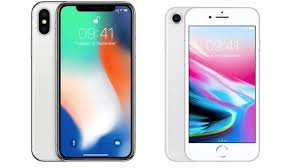iphone: (181, 6, 262, 164)
iphone8: (179, 4, 260, 162)
